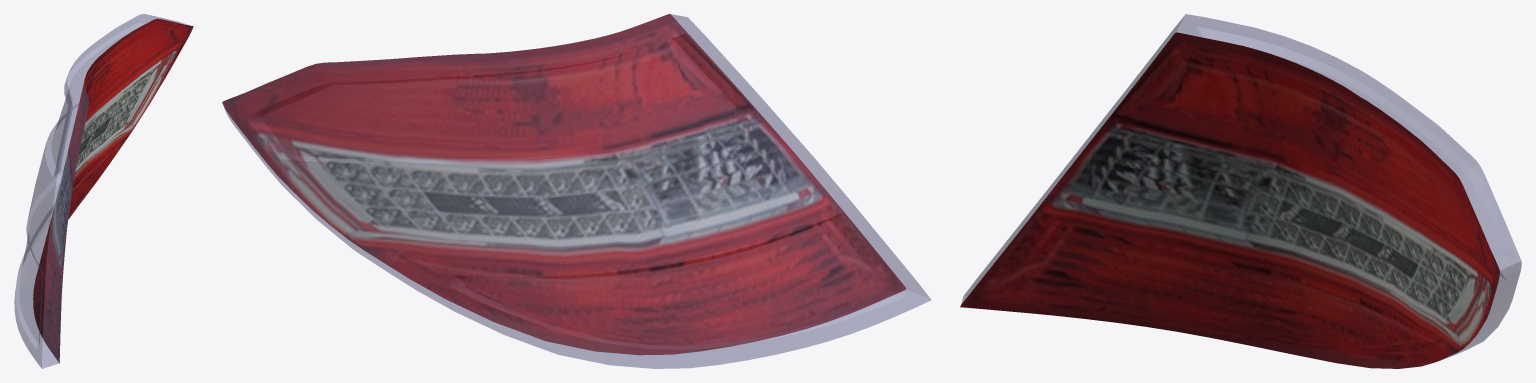
The picture shows the model from 3 angles, left to right: view 1: azimuth 30°, elevation 25°; view 2: azimuth 150°, elevation 25°; view 3: azimuth 270°, elevation 25°; orthographic projection. The views are drawn at different scales.
Parts seen in each view (by area): view 1: X3144_541C_L_2_N_X3144_541C_L, X3144_541C_L_X3144_541C_L_1_DTaSI; view 2: X3144_541C_L_X3144_541C_L_1_DTaSI, X3144_541C_L_2_N_X3144_541C_L; view 3: X3144_541C_L_2_N_X3144_541C_L, X3144_541C_L_X3144_541C_L_1_DTaSI.
Part boxes in pixels (box(x1,y1,x2,y2)): X3144_541C_L_2_N_X3144_541C_L: box(33, 18, 193, 362); X3144_541C_L_X3144_541C_L_1_DTaSI: box(14, 14, 188, 368); X3144_541C_L_X3144_541C_L_1_DTaSI: box(222, 14, 931, 368); X3144_541C_L_2_N_X3144_541C_L: box(222, 14, 905, 355); X3144_541C_L_2_N_X3144_541C_L: box(960, 32, 1499, 368); X3144_541C_L_X3144_541C_L_1_DTaSI: box(961, 14, 1521, 359).
Bounding box in the file's own units: 43.8 × 28.08 × 39.26.
